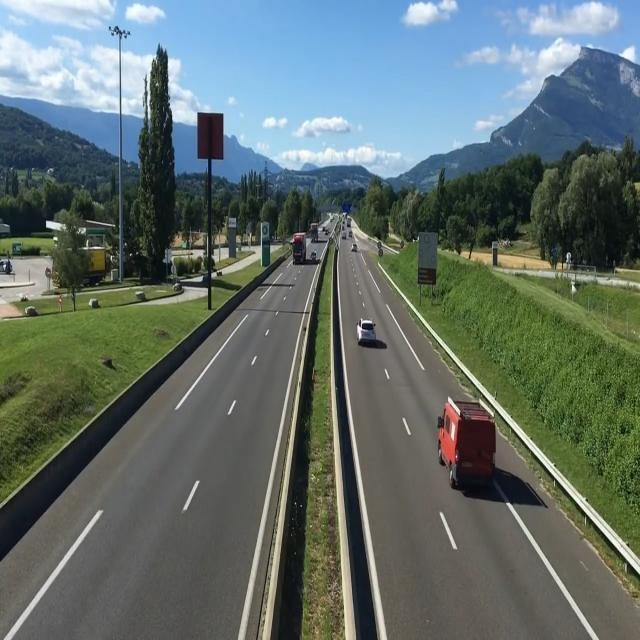Car: (351, 317, 389, 347), (307, 246, 322, 265), (347, 240, 362, 254)
Truck: (57, 232, 113, 288), (286, 232, 306, 264)
Van: (424, 392, 514, 481)
